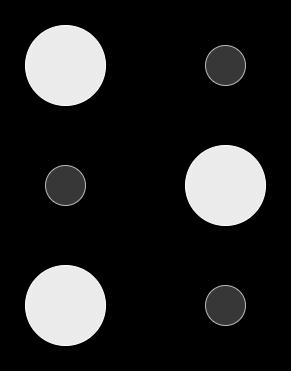O: (21, 18, 271, 349)
